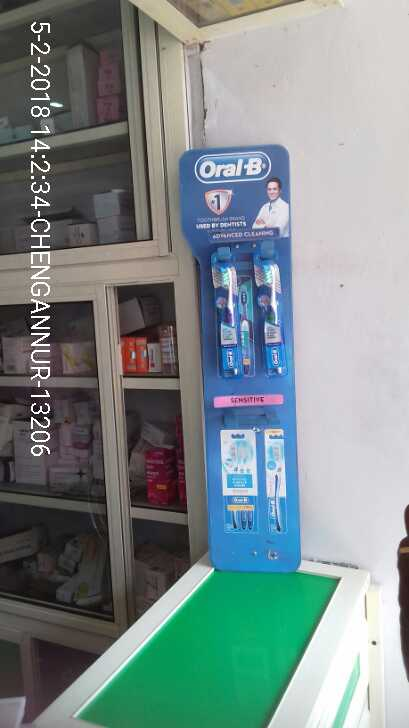oralb: (207, 258, 252, 376), (254, 246, 290, 377)
